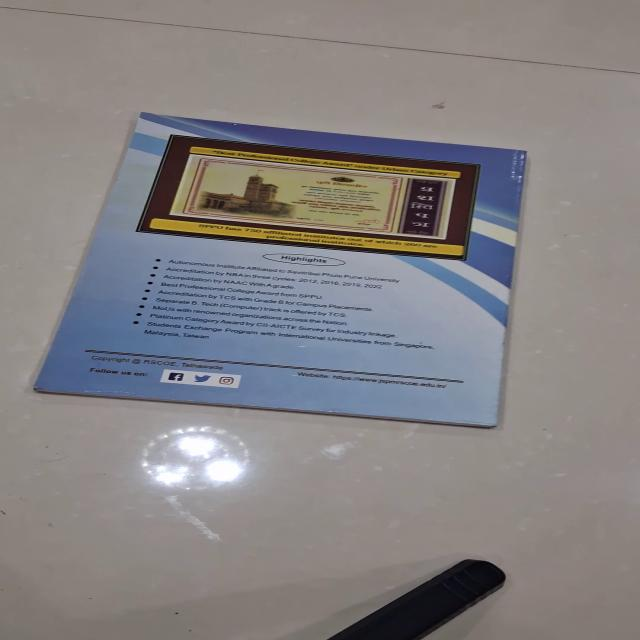paper: (31, 111, 528, 428)
